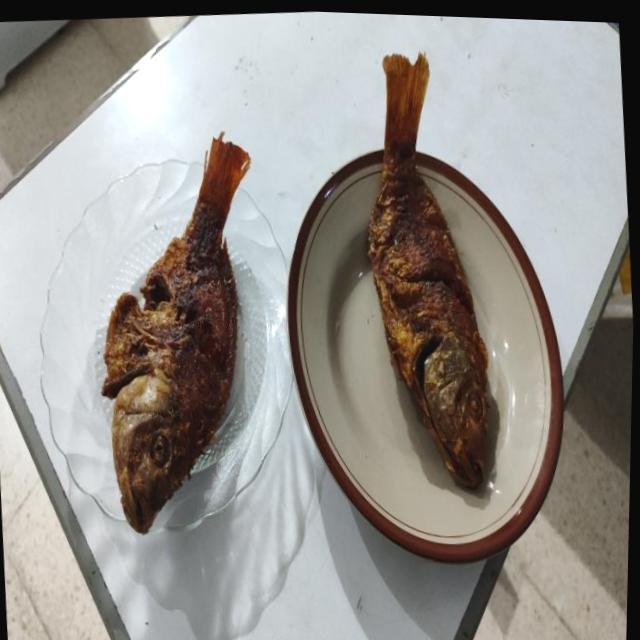ikan_mujair: (101, 132, 250, 533), (368, 54, 488, 488)
